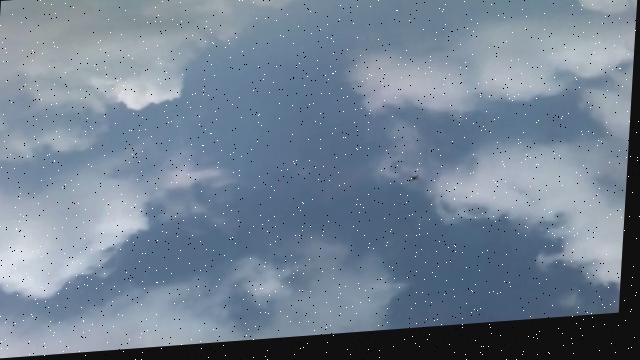drone: (409, 178, 426, 193)
